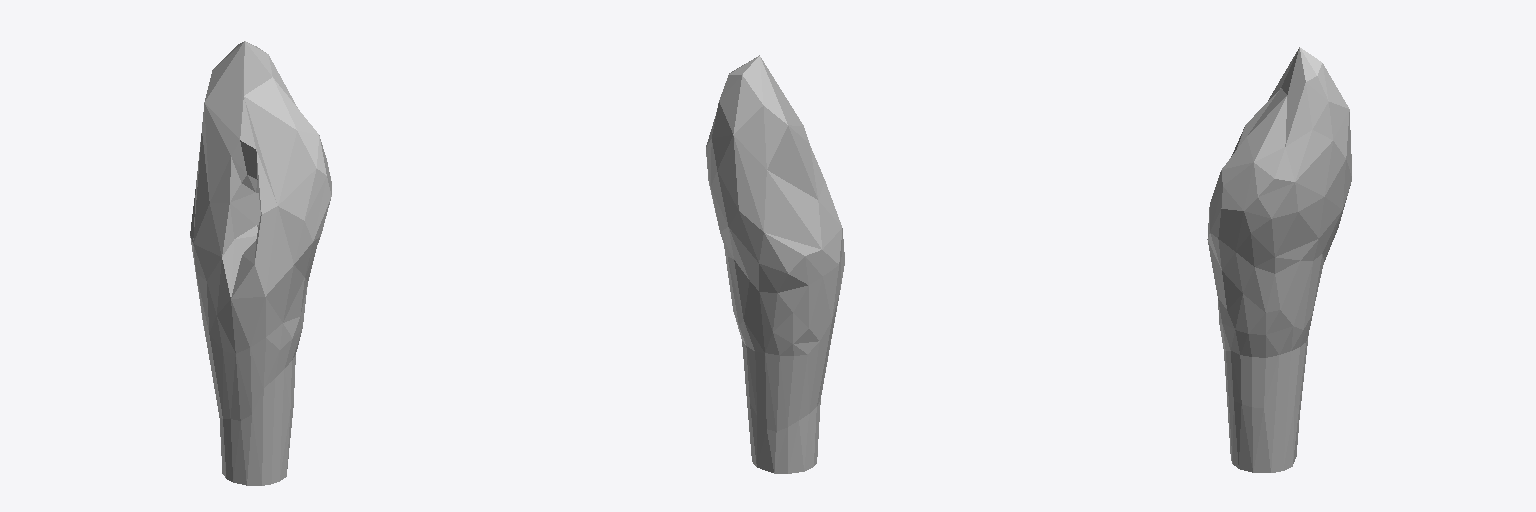
Rendered from island3.obj.
The picture shows the model from 3 angles: view 1: azimuth 30°, elevation 25°; view 2: azimuth 150°, elevation 25°; view 3: azimuth 270°, elevation 25°; orthographic projection.
Visible parts, largest first — view 1: Icosphere_Icosphere.002; view 2: Icosphere_Icosphere.002; view 3: Icosphere_Icosphere.002.
Part boxes in pixels (x1,y1,x2,y2): Icosphere_Icosphere.002: (190, 41, 331, 485); Icosphere_Icosphere.002: (706, 55, 844, 473); Icosphere_Icosphere.002: (1207, 47, 1351, 472).
Bounding box in the file's own units: 2.75 × 9.07 × 2.86.